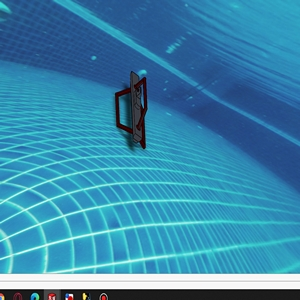submarine: (112, 70, 157, 146)
